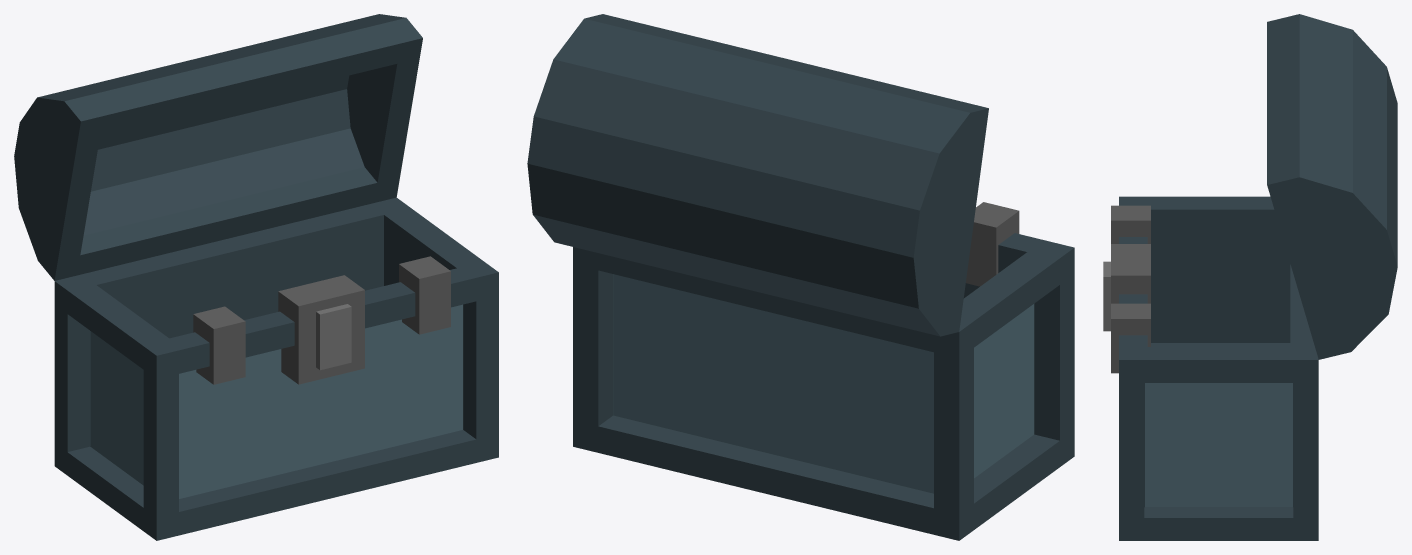
The model's file is Ship_033.glb.
The picture shows the model from 3 angles, left to right: view 1: azimuth 30°, elevation 25°; view 2: azimuth 150°, elevation 25°; view 3: azimuth 270°, elevation 25°; orthographic projection. The views are drawn at different scales.
Visible parts, largest first — view 1: Ship_033; view 2: Ship_033; view 3: Ship_033.
Boxes of the visible parts, x1,y1,x2,y2 form: Ship_033: (14, 14, 498, 540); Ship_033: (527, 14, 1074, 540); Ship_033: (1103, 14, 1397, 540).
Bounding box in the file's own units: 1.1 × 1.15 × 0.8414.
1 material, 1 textured.
